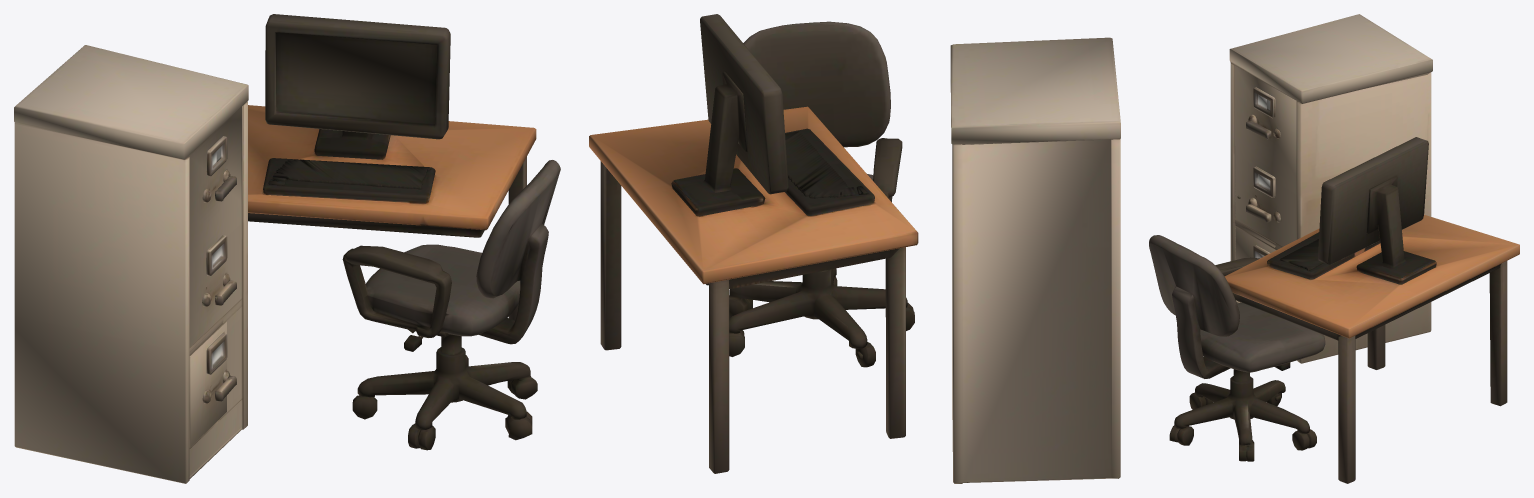
File: filing_cabinet_and_desk_with_computer_85ad453f_v2.glb
3 renders of one model, left to right at view 1: azimuth 30°, elevation 25°; view 2: azimuth 150°, elevation 25°; view 3: azimuth 270°, elevation 25°, orthographic. The views are drawn at different scales.
Parts seen in each view (by area): view 1: material; view 2: material; view 3: material.
Part boxes in pixels (box(x1,y1,x2,y2)): material: box(14, 14, 560, 483); material: box(589, 14, 1120, 483); material: box(1149, 14, 1519, 483).
Bounding box in the file's own units: 1.9 × 1.22 × 1.48.
Materials: 1 (1 with a texture image).
